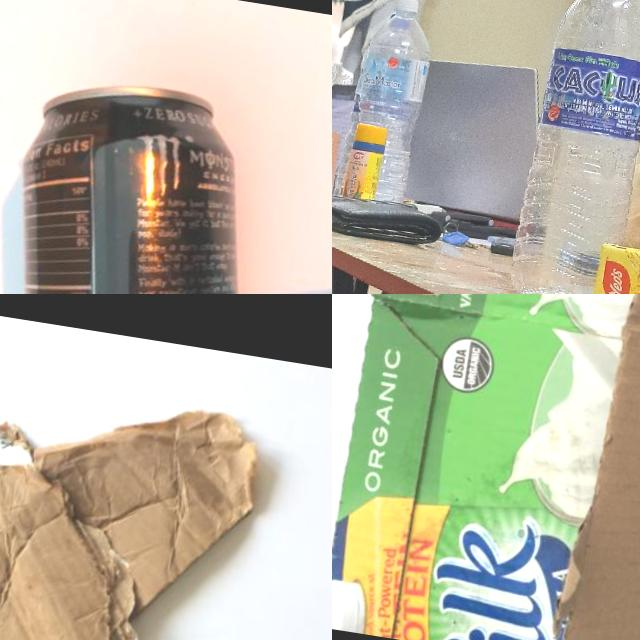garrafa plástica: (512, 0, 640, 294), (340, 11, 440, 216)
lata: (0, 67, 305, 294)
papelão: (332, 294, 640, 640), (0, 357, 266, 640)
tampa plástica: (397, 0, 419, 14)
